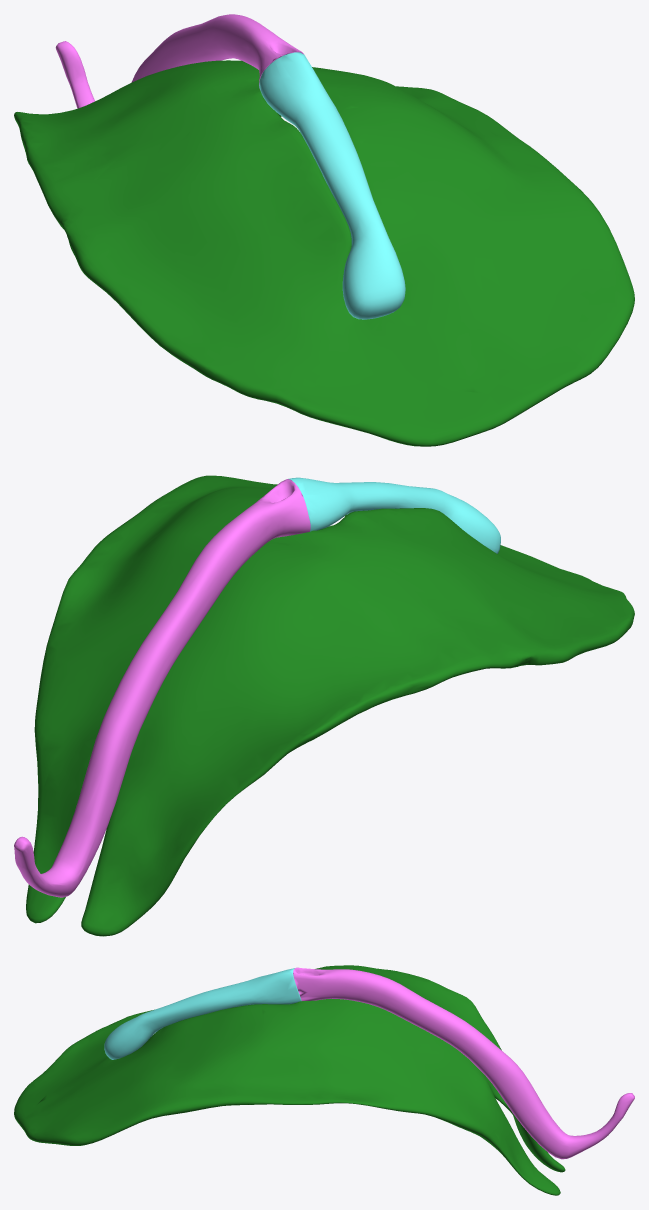
The model's file is Endoderm.fbx.
The picture shows the model from 3 angles, top to bottom: view 1: azimuth 30°, elevation 25°; view 2: azimuth 150°, elevation 25°; view 3: azimuth 270°, elevation 25°; orthographic projection. The views are drawn at different scales.
Visible parts, largest first — view 1: polySurface2, polySurface3, polySurface4; view 2: polySurface2, polySurface4, polySurface3; view 3: polySurface2, polySurface4, polySurface3.
Part boxes in pixels (left/top/right/bottom): polySurface2: left=14, top=60, right=634, bottom=446; polySurface3: left=259, top=52, right=405, bottom=319; polySurface4: left=55, top=14, right=303, bottom=108; polySurface2: left=26, top=475, right=634, bottom=936; polySurface4: left=14, top=479, right=310, bottom=897; polySurface3: left=288, top=477, right=500, bottom=553; polySurface2: left=14, top=965, right=565, bottom=1195; polySurface4: left=293, top=967, right=634, bottom=1159; polySurface3: left=104, top=968, right=301, bottom=1059.
Size of the model in its own units: 8.93 by 6 by 16.31.
